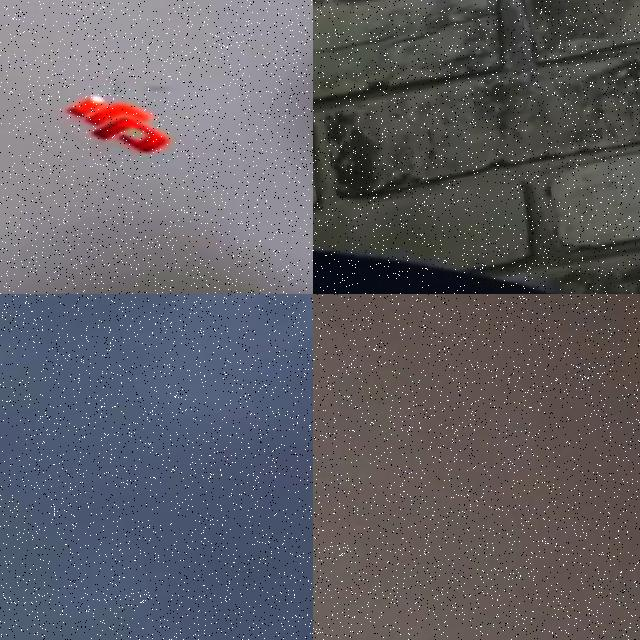drone: (0, 0, 313, 294)
